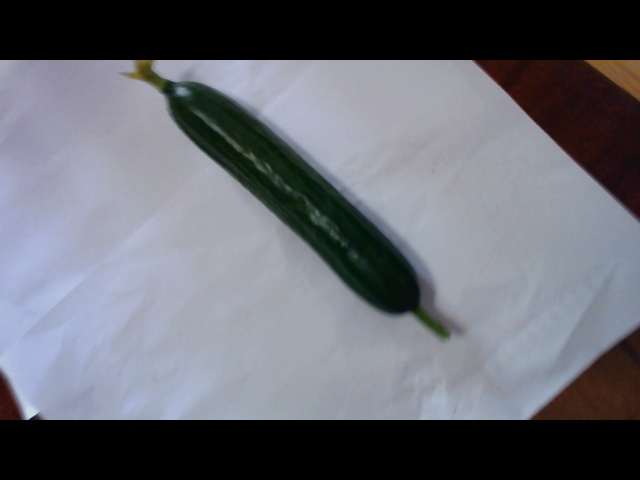cucumber: (155, 63, 454, 334)
